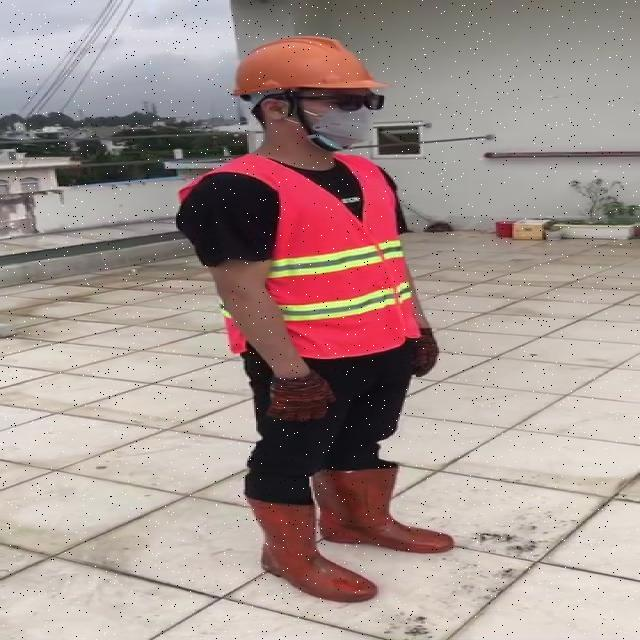Hard_hat: (231, 33, 394, 111)
Vest: (260, 150, 414, 362)
